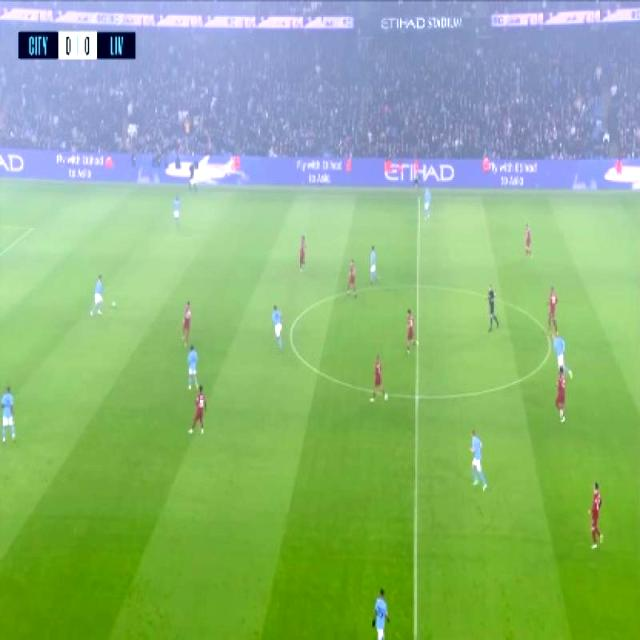bigarea_top_inner: (20, 215, 42, 242)
halfcircle_bottom: (406, 383, 426, 409)
halfcircle_top: (406, 272, 428, 298)
midline_top_intersection: (410, 186, 425, 206)
